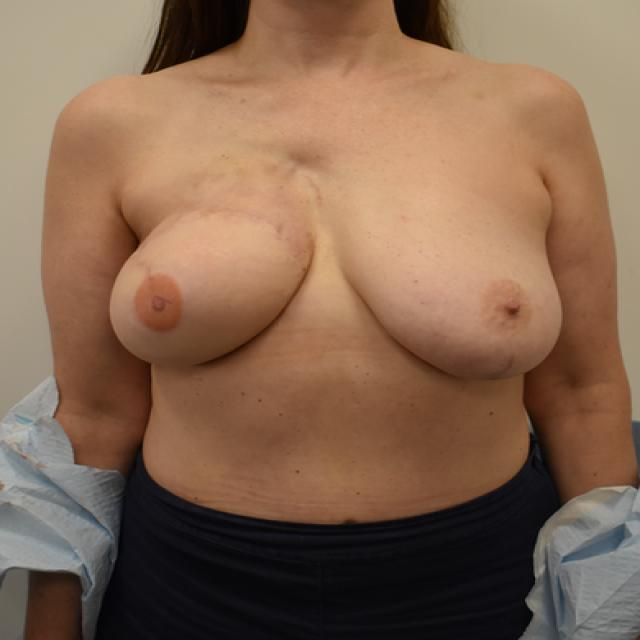Seno herido: (101, 192, 322, 389)
Seno ileso: (337, 192, 569, 390)
